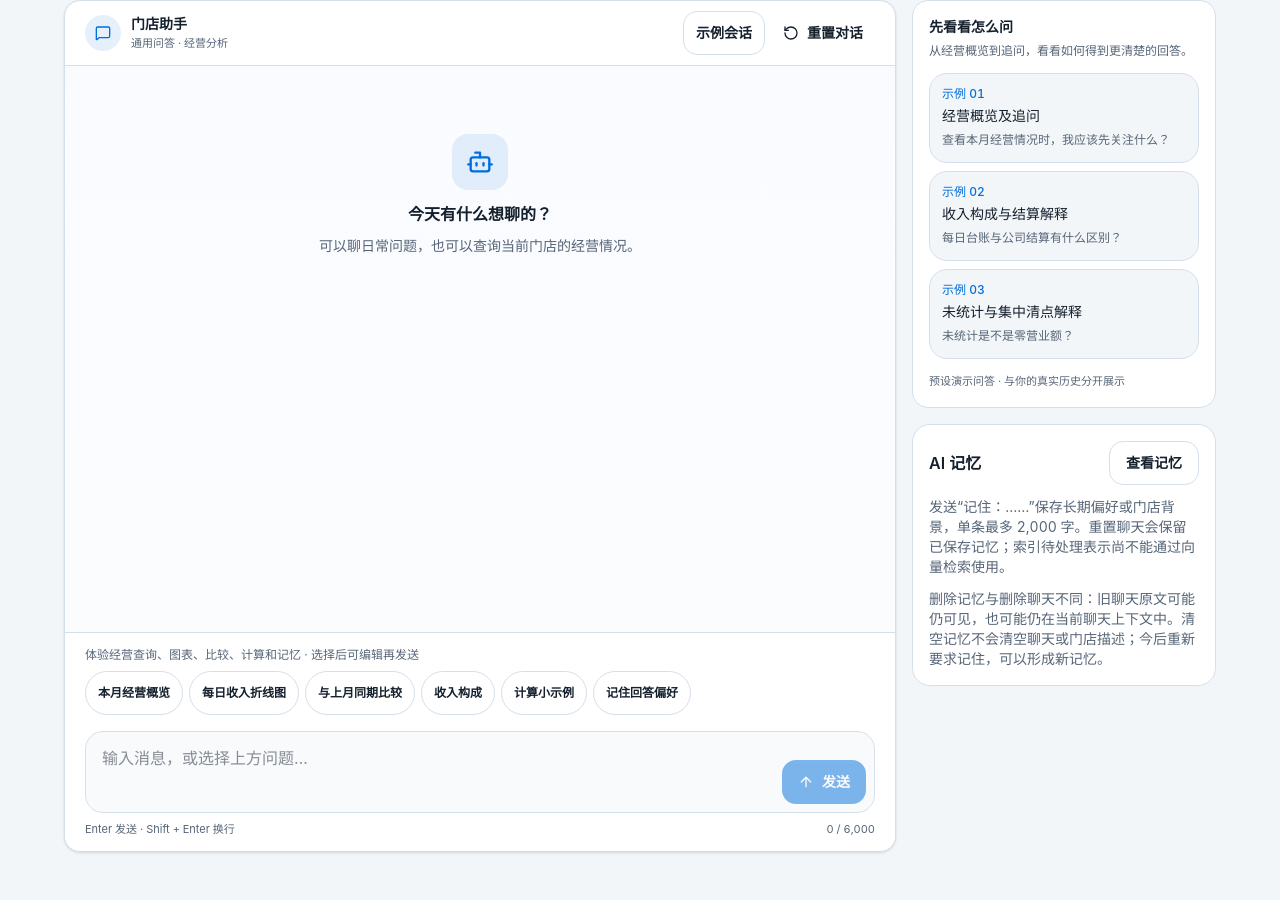
AI conversation › opens the chosen example without changing drafts or saved history and restores input focus
Type "我的问题草稿" into the text box named "发送消息" at (434, 772), box [94,740,774,804]
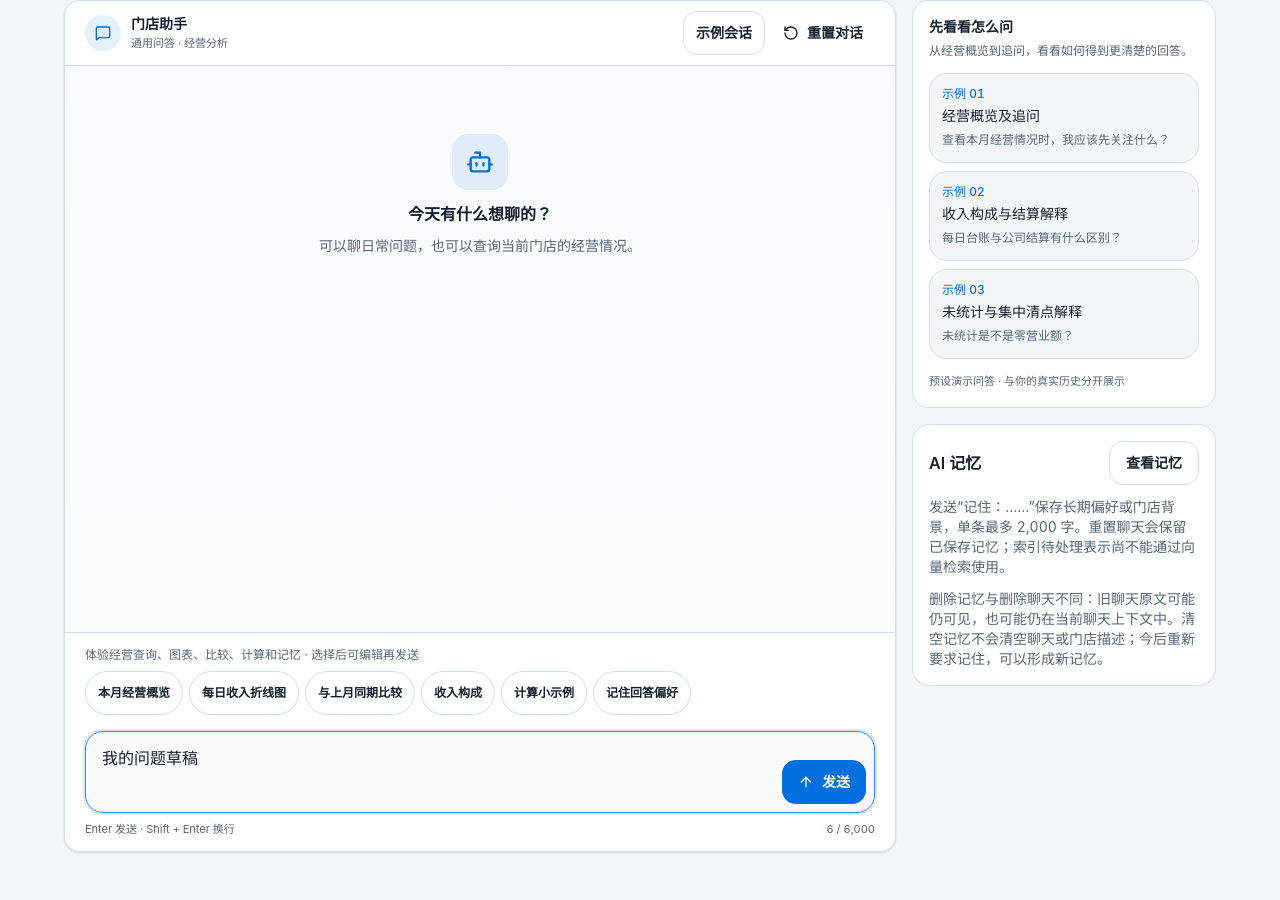
Click the button "示例 03 未统计与集中清点解释 未统计是不是零营业额？" at (1064, 314), box [929,269,1199,359]
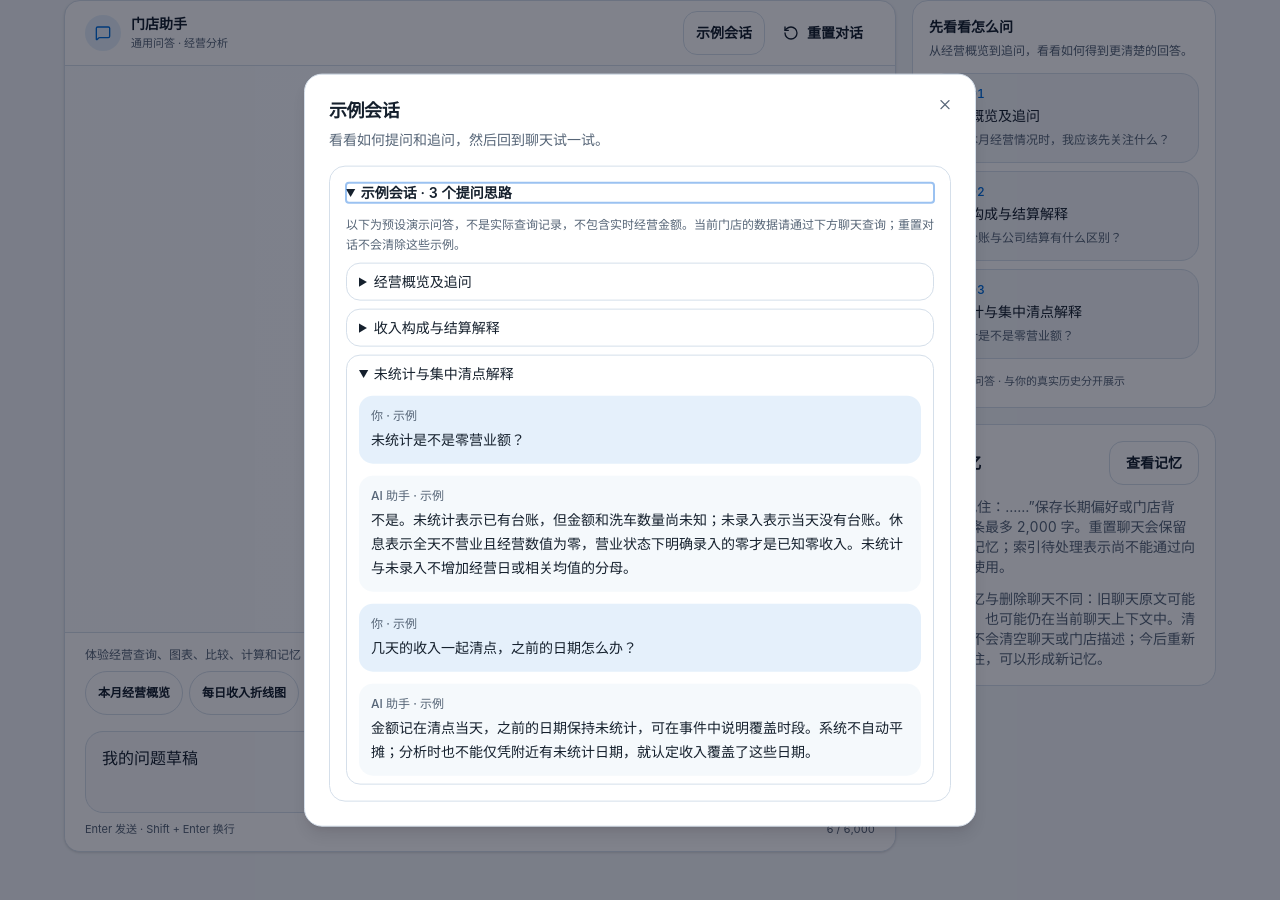
Now the text "未统计是不是零营业额？" is shown, box [371,430,525,447]
Press Escape
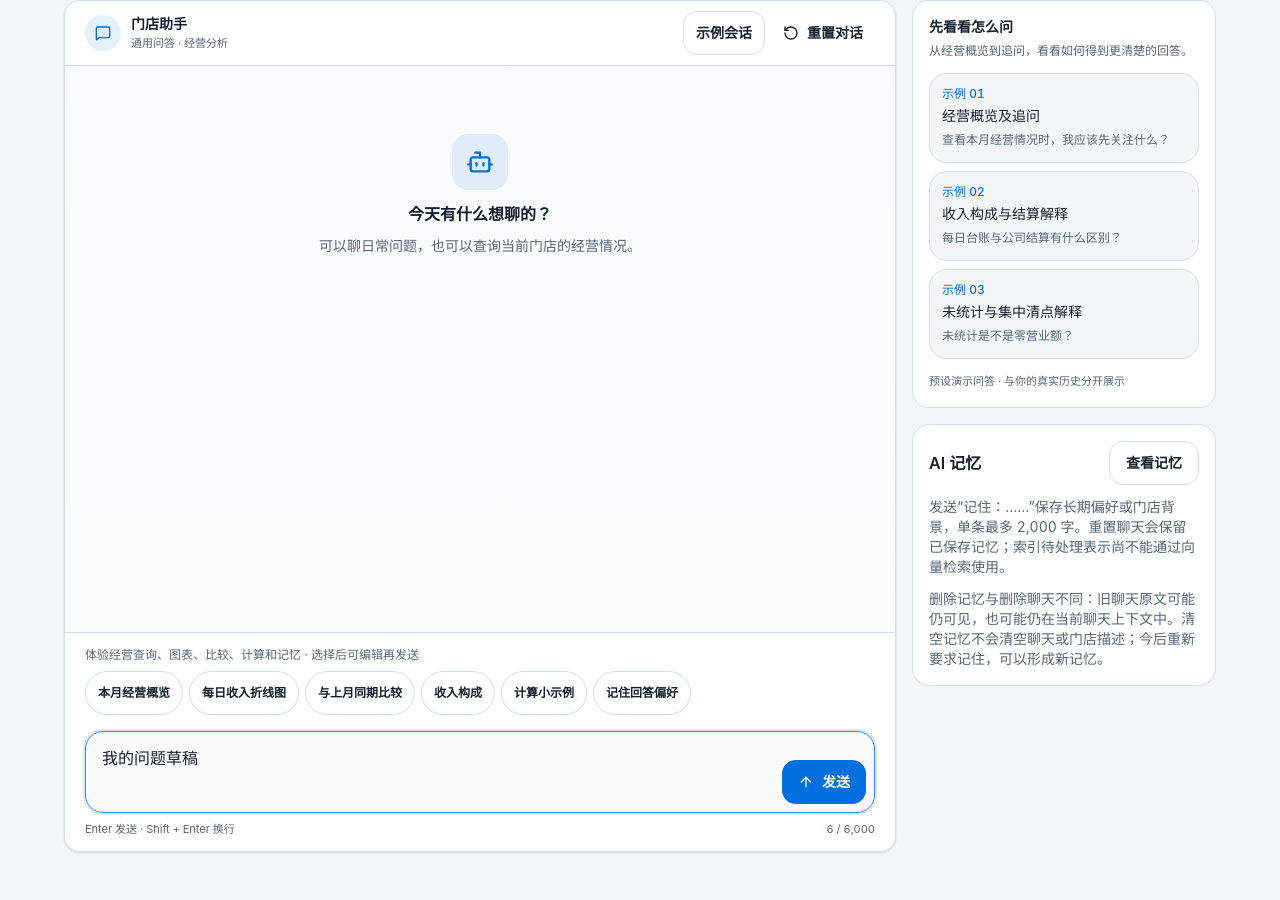
Now the dialog is gone
